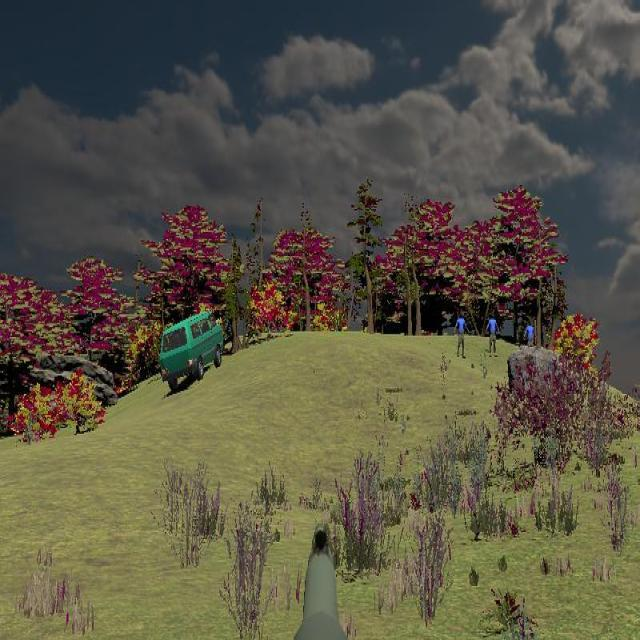Human: (454, 310, 469, 359), (486, 311, 500, 358), (523, 318, 536, 364)
car: (160, 311, 223, 390)
